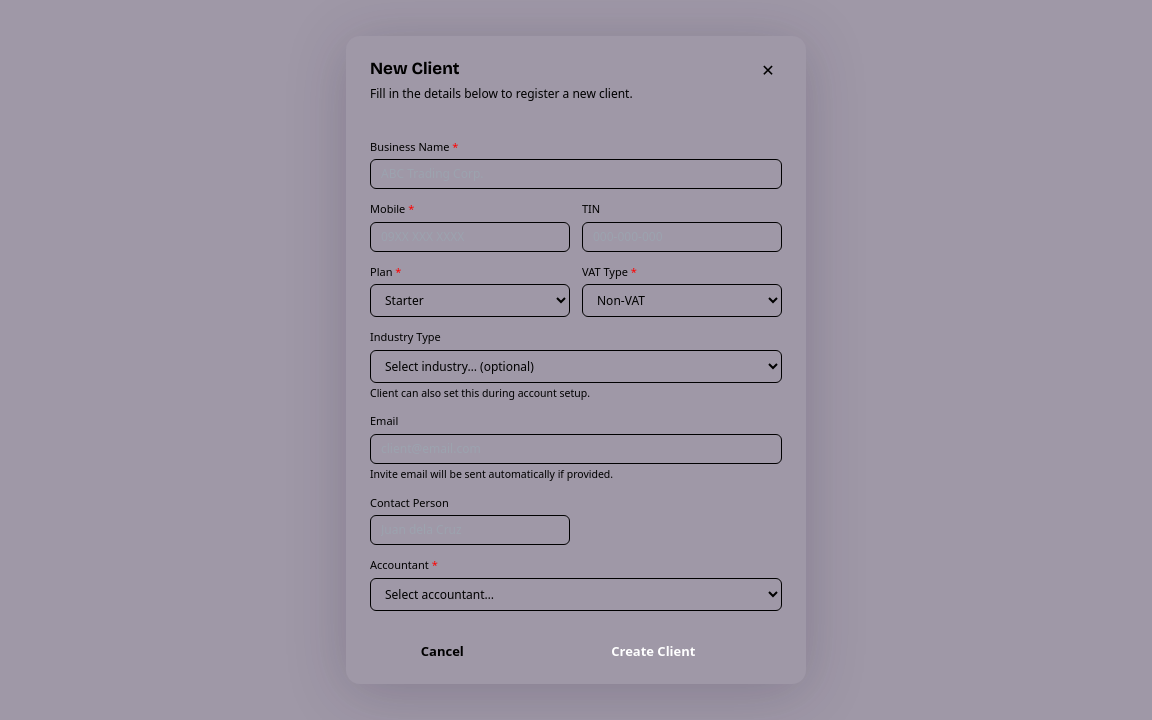
Test: ClientModal — create mode › shows validation errors on empty submit
Click the button "Create Client".
click(653, 651)  # box 525,632 -> 782,670
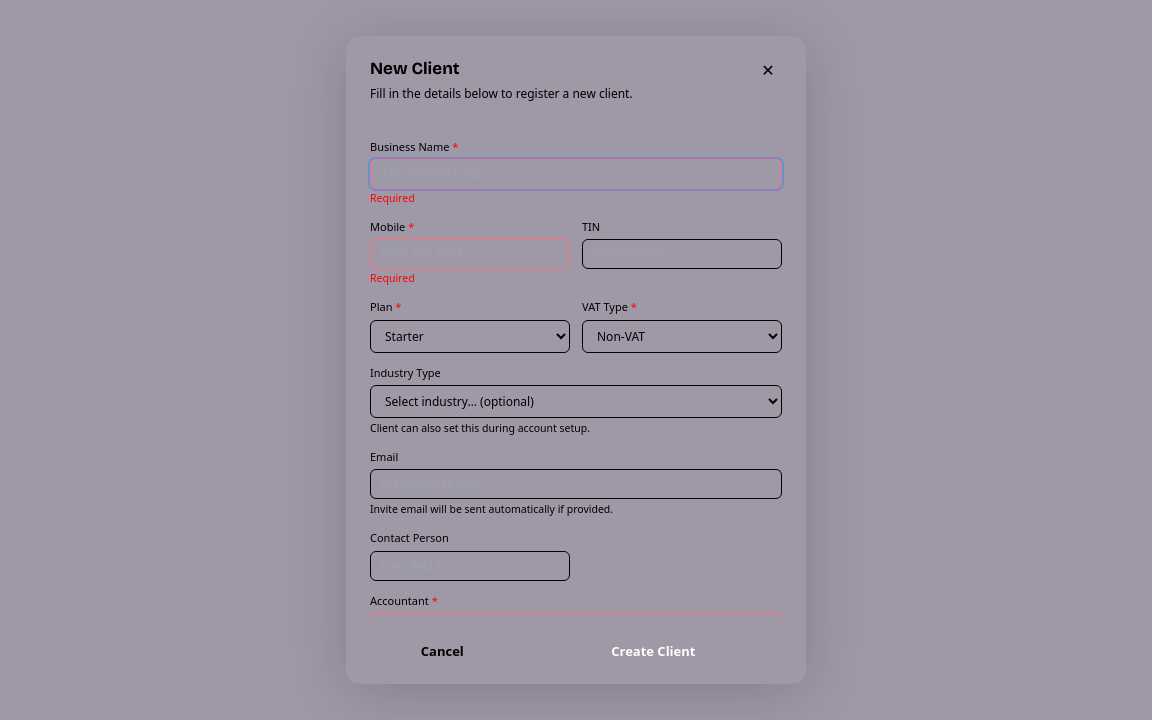
Now the text "Required" below "Business Name" is shown, box 370,191 -> 415,205
